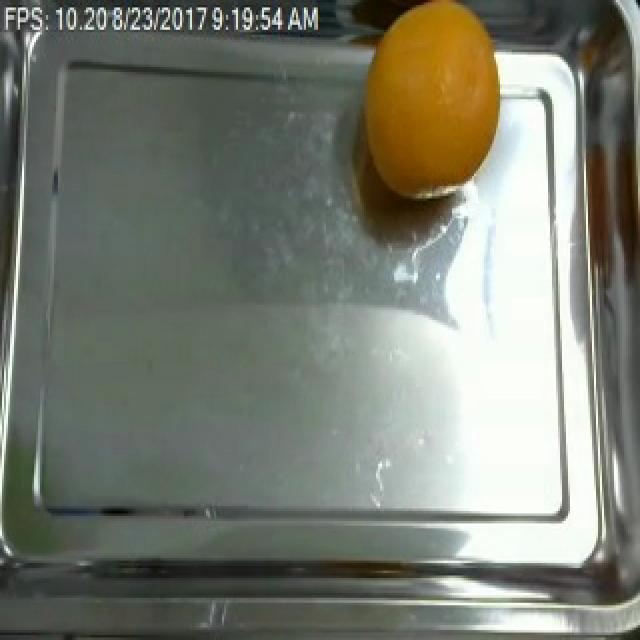Fruit: (354, 0, 508, 206)
